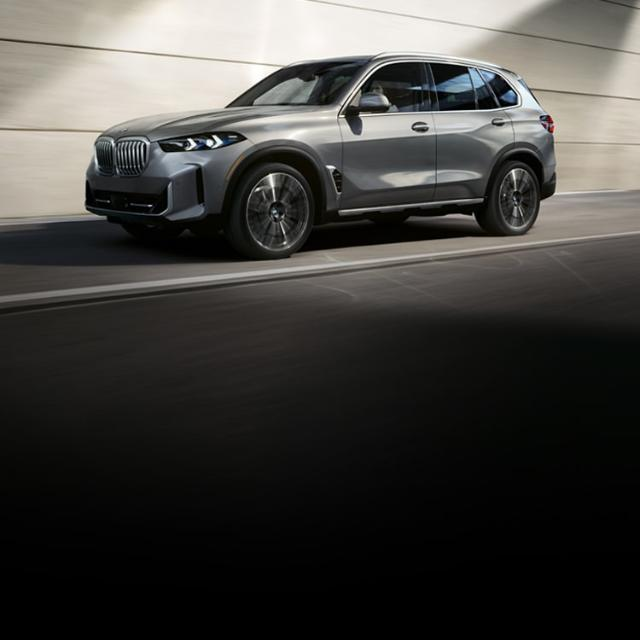bmw: (84, 52, 558, 258)
